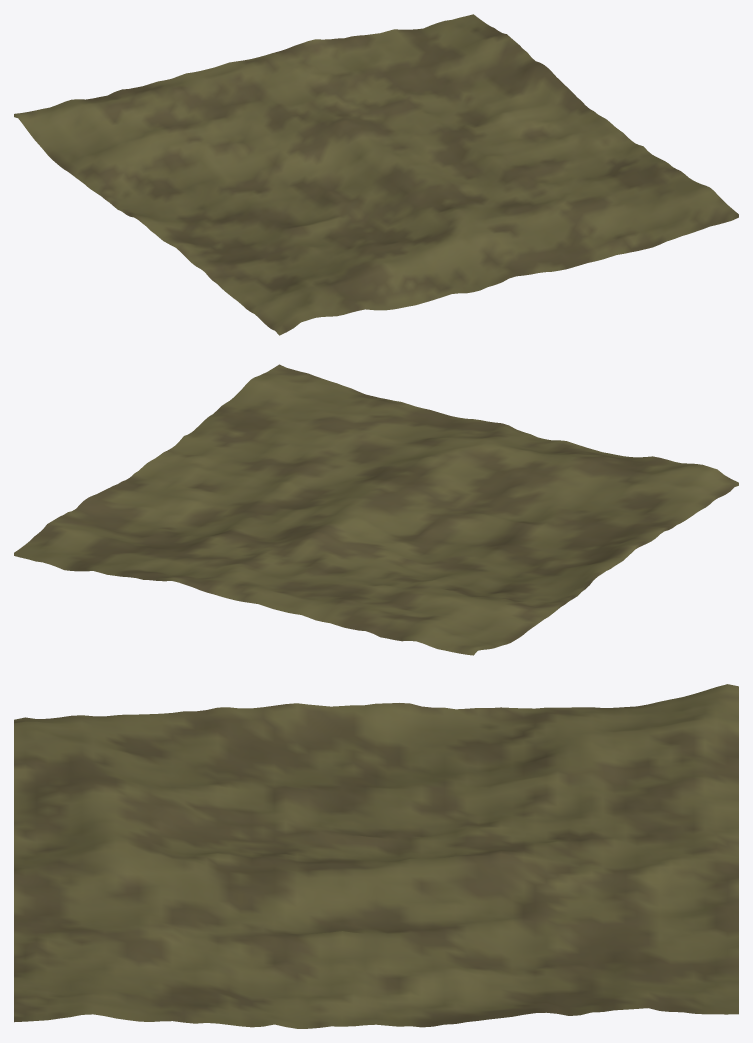
File: land_f_08_10.glb
The picture shows the model from 3 angles, top to bottom: view 1: azimuth 30°, elevation 25°; view 2: azimuth 150°, elevation 25°; view 3: azimuth 270°, elevation 25°; orthographic projection. The views are drawn at different scales.
Parts seen in each view (by area): view 1: land_f_08_10; view 2: land_f_08_10; view 3: land_f_08_10.
Part boxes in pixels (x1,y1,x2,y2): land_f_08_10: [14, 14, 738, 335]; land_f_08_10: [14, 364, 738, 655]; land_f_08_10: [14, 684, 738, 1028].
Size of the model in its own units: 3840 by 279 by 3840.
